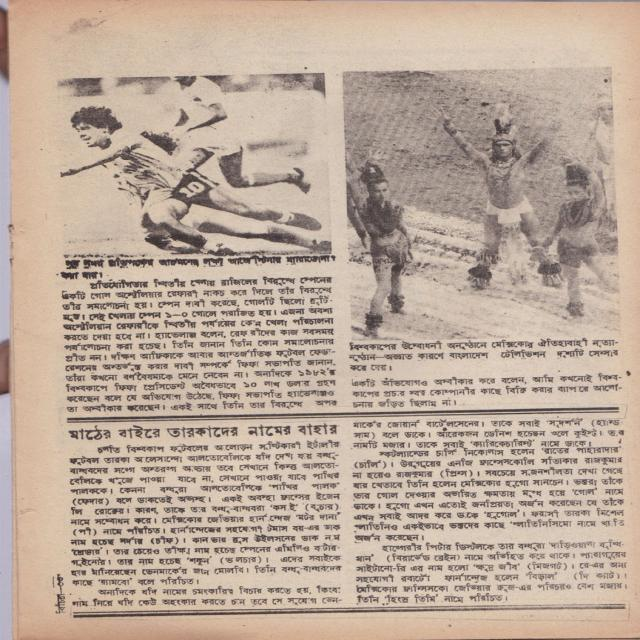caption: (347, 338, 619, 374), (58, 254, 337, 281)
image: (341, 65, 622, 342), (53, 71, 333, 259)
page number: (55, 573, 65, 587)
paragraph: (68, 439, 344, 587), (59, 275, 341, 414), (351, 445, 625, 543), (353, 538, 629, 606), (350, 372, 624, 410), (351, 417, 626, 450), (71, 583, 343, 608)
text: (53, 587, 67, 615)
title: (66, 422, 340, 442)
